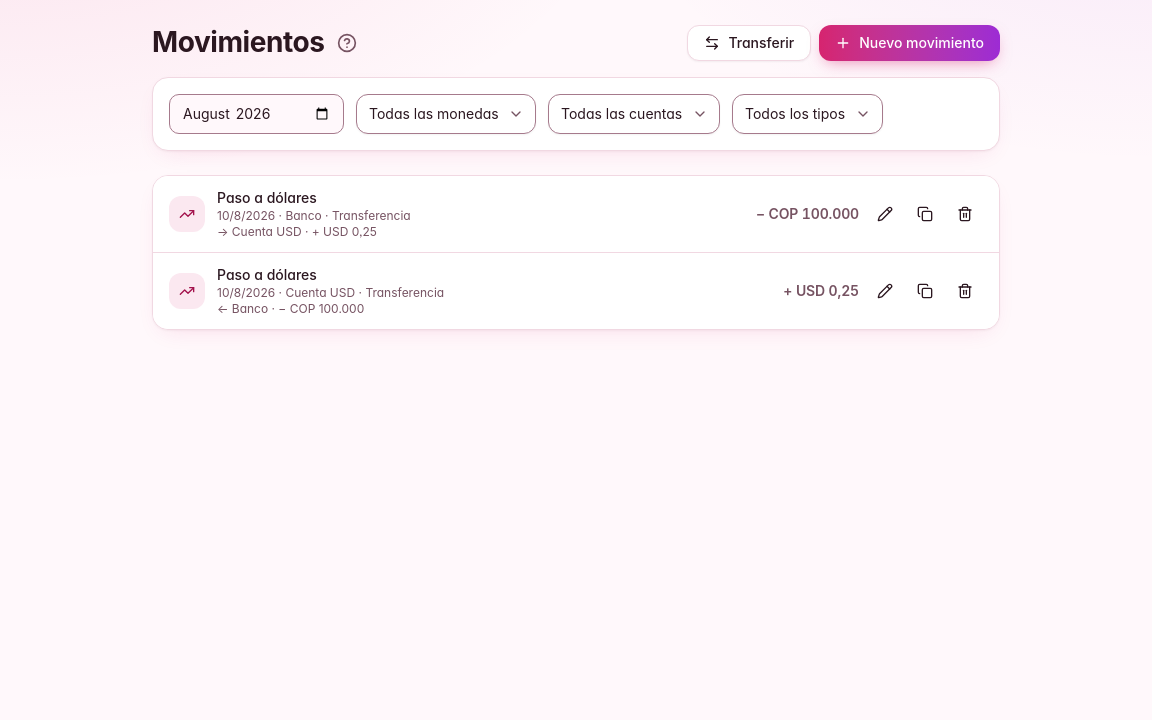
Transactions — editar transferencias (M8) › abre la transferencia completa desde la pata que entra, en su sentido original
Click the button named "Editar transferencia «" in the row of "← Banco · − COP 100.000" at (885, 291), box [867,273,903,309]
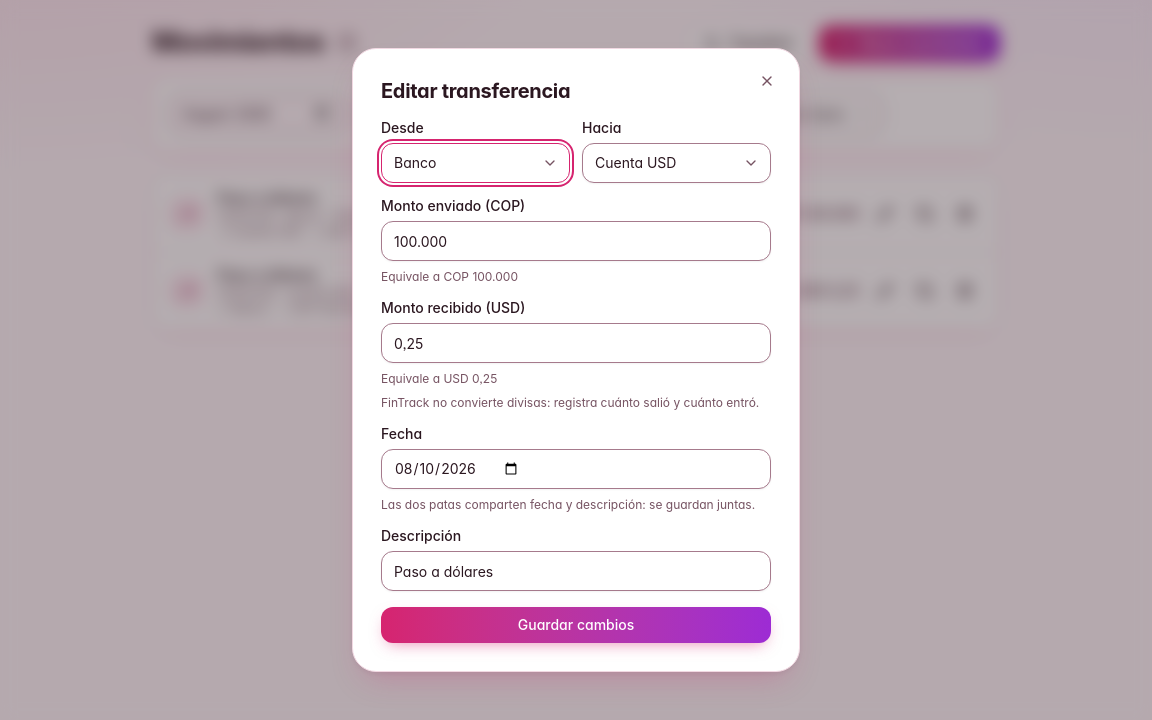
Result: the heading "Editar transferencia" is shown at [381,79,570,103]
Result: the dropdown labelled "Desde" shows "Banco" at [381,143,570,183]
Result: the dropdown labelled "Hacia" shows "Cuenta USD" at [582,143,771,183]
